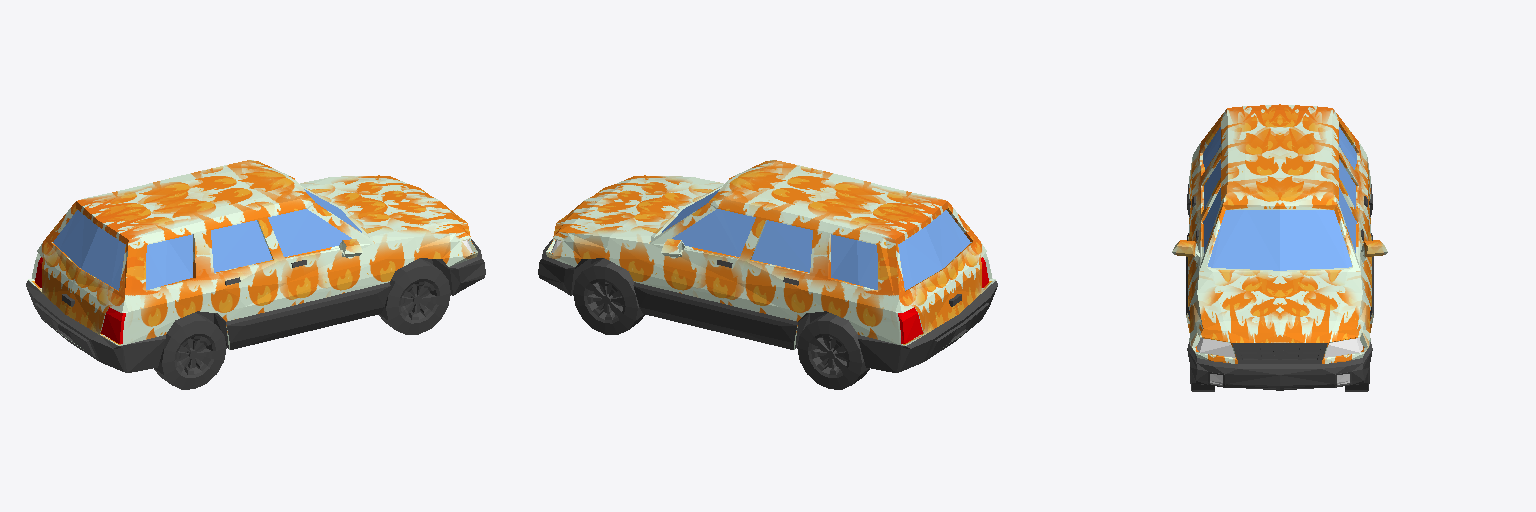
3 views of the same model, side by side, from view 1: azimuth 30°, elevation 25°; view 2: azimuth 150°, elevation 25°; view 3: azimuth 270°, elevation 25° (orthographic).
Parts seen in each view (by area): view 1: car_green_Cube.002, car_black_Cube.003, car_glass_Cube.014, car_rlights_Cube.008; view 2: car_green_Cube.002, car_black_Cube.003, car_glass_Cube.014, car_rlights_Cube.008; view 3: car_green_Cube.002, car_glass_Cube.014, car_black_Cube.003, car_wlight_Cube.007.
Part boxes in pixels (x1,y1,x2,y2): car_green_Cube.002: (28,160,477,349); car_black_Cube.003: (26,239,485,389); car_glass_Cube.014: (53,189,361,290); car_rlights_Cube.008: (35,257,125,343); car_green_Cube.002: (546,160,995,349); car_black_Cube.003: (538,239,997,389); car_glass_Cube.014: (662,189,970,290); car_rlights_Cube.008: (898,257,988,343); car_green_Cube.002: (1172,104,1387,363); car_glass_Cube.014: (1203,127,1356,270); car_black_Cube.003: (1186,184,1373,391); car_wlight_Cube.007: (1197,338,1362,384).
Size of the model in its own units: 8.19 by 2.97 by 3.87.
5 materials, 1 textured.